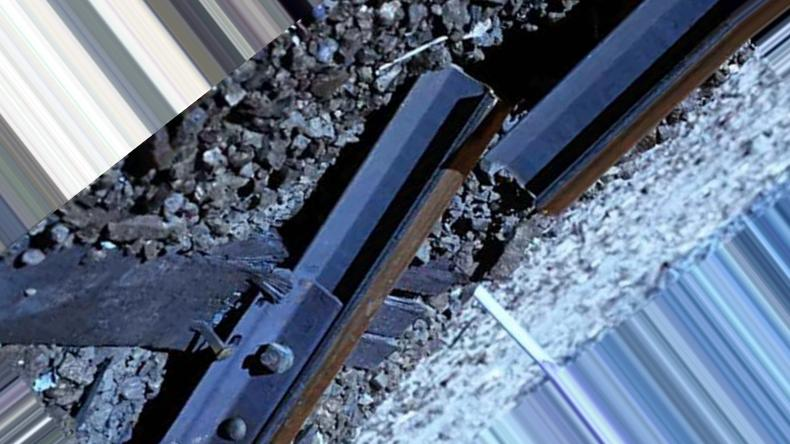tracks_fault: (390, 18, 585, 294), (181, 207, 357, 394)
